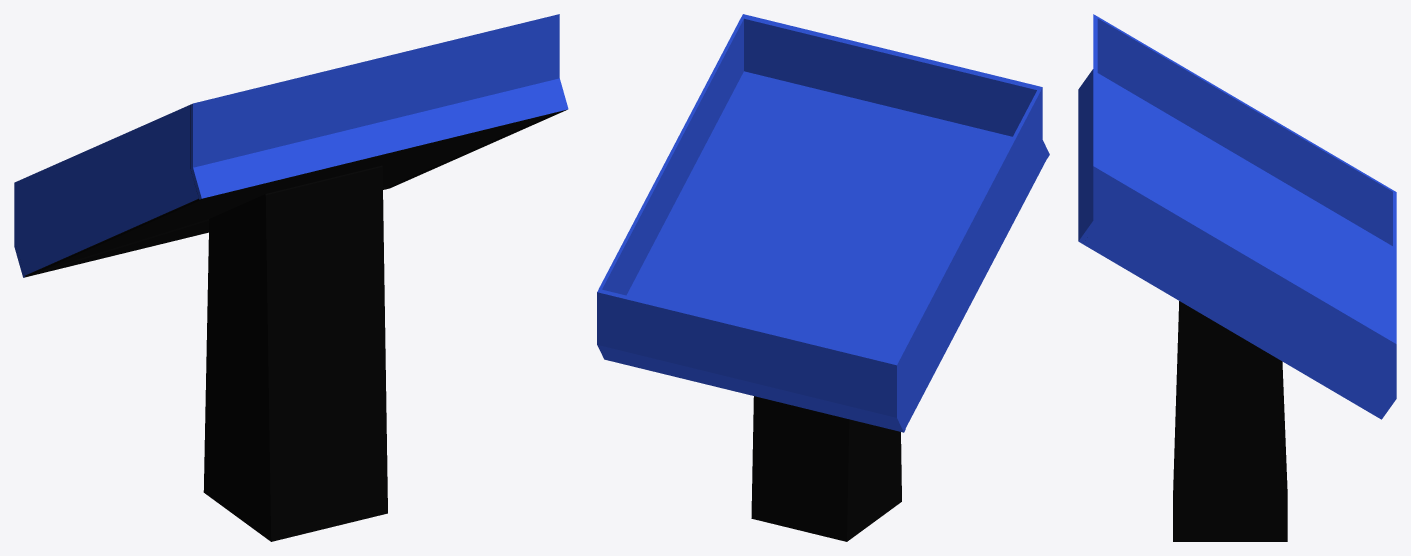
File: stol.fbx
3 views of the same model, side by side, from view 1: azimuth 30°, elevation 25°; view 2: azimuth 150°, elevation 25°; view 3: azimuth 270°, elevation 25° (orthographic). The views are drawn at different scales.
Parts seen in each view (by area): view 1: Cube; view 2: Cube; view 3: Cube.
Boxes of the visible parts, <box> form: Cube: <box>14,14,568,541</box>; Cube: <box>597,14,1049,541</box>; Cube: <box>1078,14,1396,541</box>.
Bounding box in the file's own units: 628 × 823 × 555.
